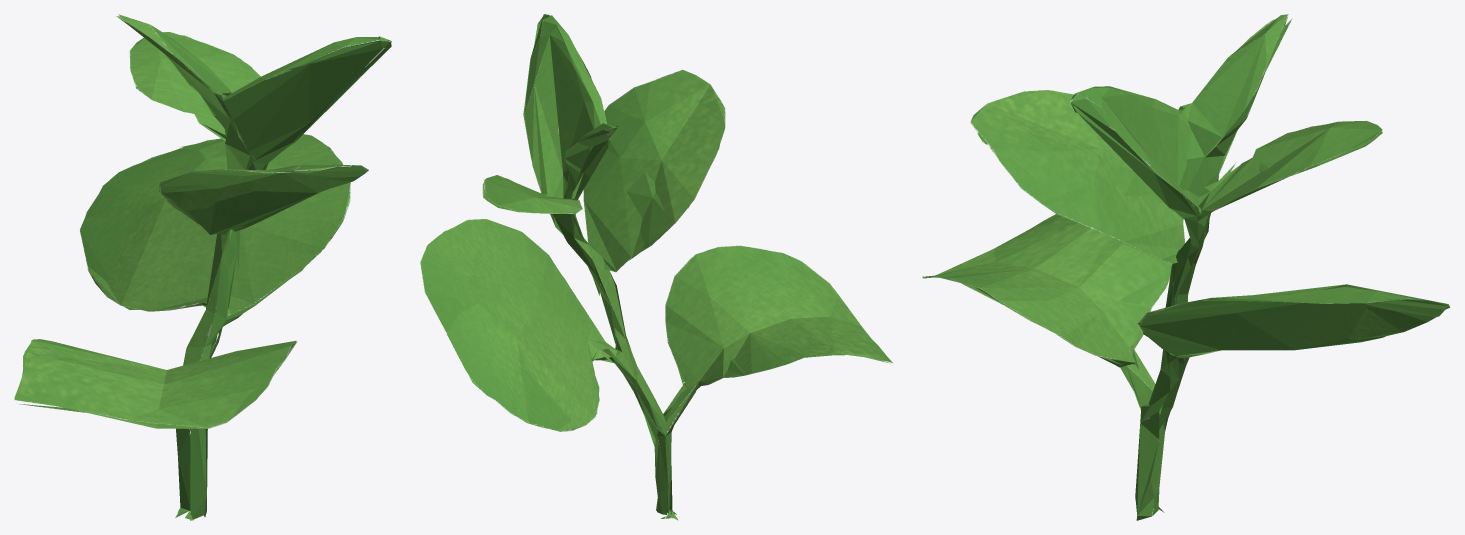
The model's file is Plant_1.glb.
The picture shows the model from 3 angles, left to right: view 1: azimuth 30°, elevation 25°; view 2: azimuth 150°, elevation 25°; view 3: azimuth 270°, elevation 25°; orthographic projection. The views are drawn at different scales.
Visible parts, largest first — view 1: plantphase0; view 2: plantphase0; view 3: plantphase0.
Boxes of the visible parts, x1,y1,x2,y2 form: plantphase0: [14, 14, 391, 520]; plantphase0: [420, 14, 892, 520]; plantphase0: [922, 14, 1450, 520].
Bounding box in the file's own units: 0.0149 × 0.0168 × 0.0158.
1 material, 1 textured.
